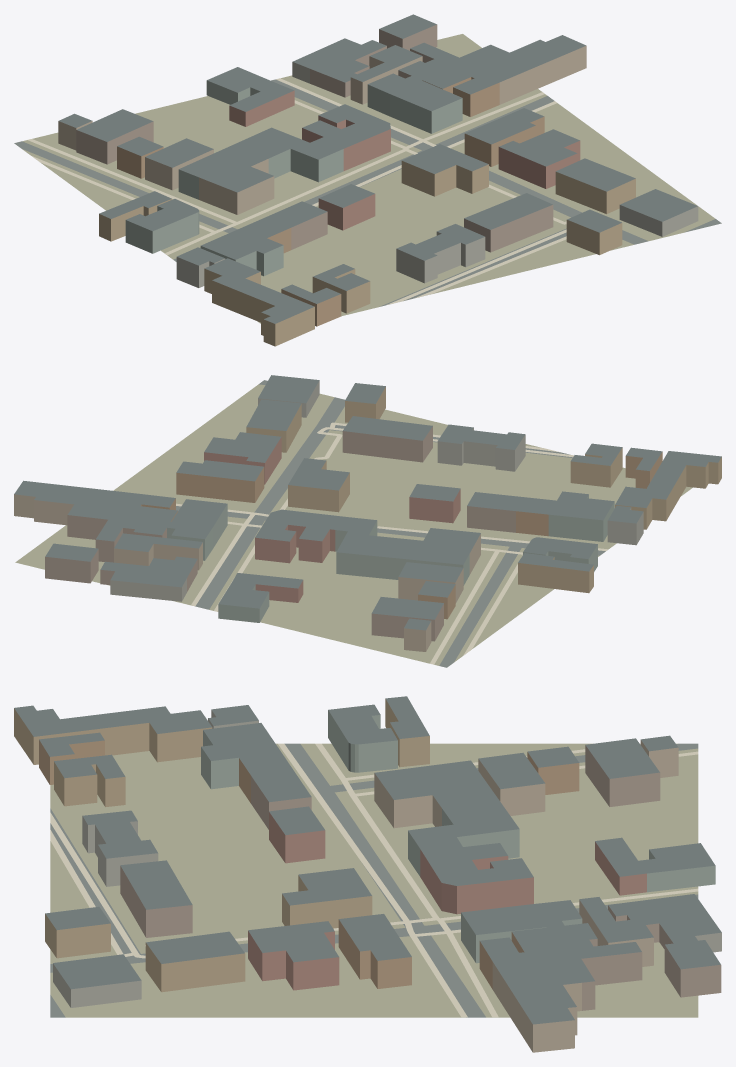
File: sector--3_-7.glb
3 views of the same model, one above another, from view 1: azimuth 30°, elevation 25°; view 2: azimuth 150°, elevation 25°; view 3: azimuth 270°, elevation 25° (orthographic). The views are drawn at different scales.
Parts seen in each view (by area): view 1: -3:-7-facade, -3:-7-roof, -3:-7-ground, -3:-7-road, -3:-7-paving; view 2: -3:-7-roof, -3:-7-facade, -3:-7-ground, -3:-7-road, -3:-7-paving; view 3: -3:-7-ground, -3:-7-roof, -3:-7-facade, -3:-7-road, -3:-7-paving.
Boxes of the visible parts, <box> form: -3:-7-facade: <box>58,24,698,346</box>; -3:-7-roof: <box>59,14,697,323</box>; -3:-7-ground: <box>21,34,715,323</box>; -3:-7-road: <box>14,79,721,306</box>; -3:-7-paving: <box>28,78,566,305</box>; -3:-7-roof: <box>14,375,721,630</box>; -3:-7-facade: <box>14,381,721,651</box>; -3:-7-ground: <box>15,384,692,665</box>; -3:-7-road: <box>176,380,605,667</box>; -3:-7-paving: <box>176,422,607,664</box>; -3:-7-ground: <box>50,743,698,1017</box>; -3:-7-roof: <box>14,696,721,1024</box>; -3:-7-facade: <box>14,699,721,1052</box>; -3:-7-road: <box>50,743,698,1017</box>; -3:-7-paving: <box>50,743,698,1017</box>.
Size of the model in its own units: 240 by 9.6 by 218.
